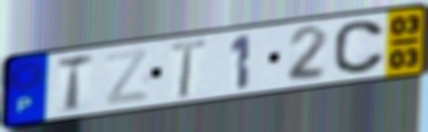1: (229, 33, 252, 91)
2: (286, 24, 330, 84)
C: (332, 19, 388, 77)
T: (55, 51, 97, 115), (169, 37, 209, 101)
Z: (102, 46, 152, 109)
